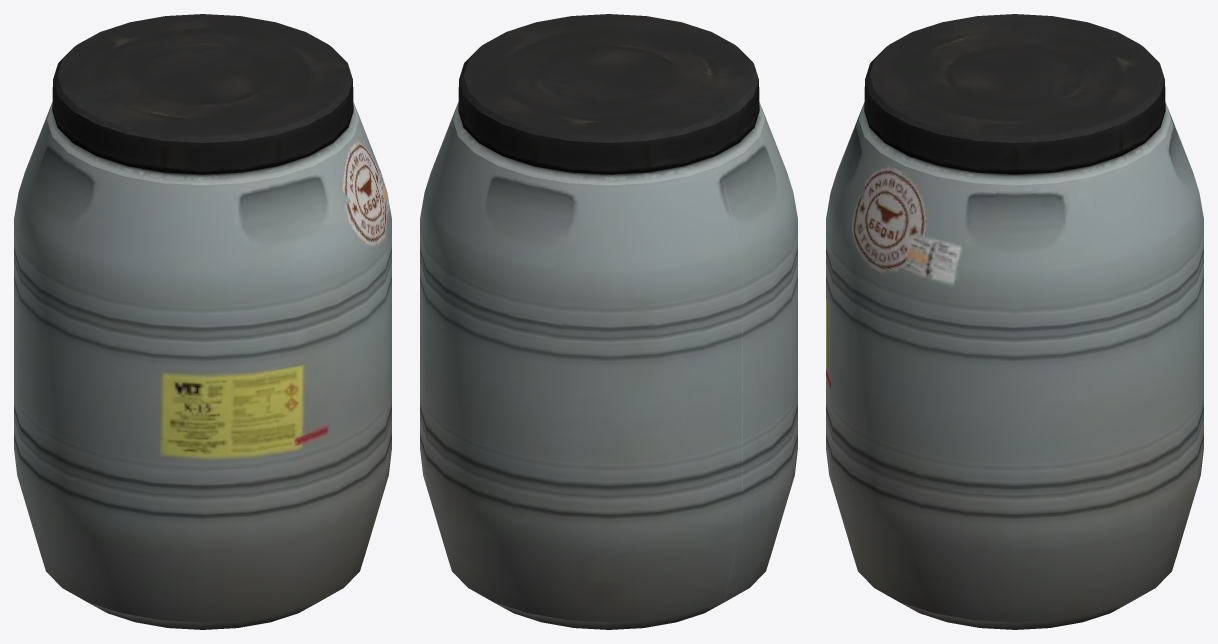
3 renders of one model, left to right at view 1: azimuth 30°, elevation 25°; view 2: azimuth 150°, elevation 25°; view 3: azimuth 270°, elevation 25°, orthographic.
Visible parts, largest first — view 1: body0_model0_lod0_mesh0; view 2: body0_model0_lod0_mesh0; view 3: body0_model0_lod0_mesh0.
Boxes of the visible parts, bbox=[...] form: body0_model0_lod0_mesh0: bbox=[14, 14, 391, 629]; body0_model0_lod0_mesh0: bbox=[420, 14, 797, 629]; body0_model0_lod0_mesh0: bbox=[826, 14, 1203, 629].
Bounding box in the file's own units: 54 × 78.41 × 54.
Materials: 1 (1 with a texture image).
